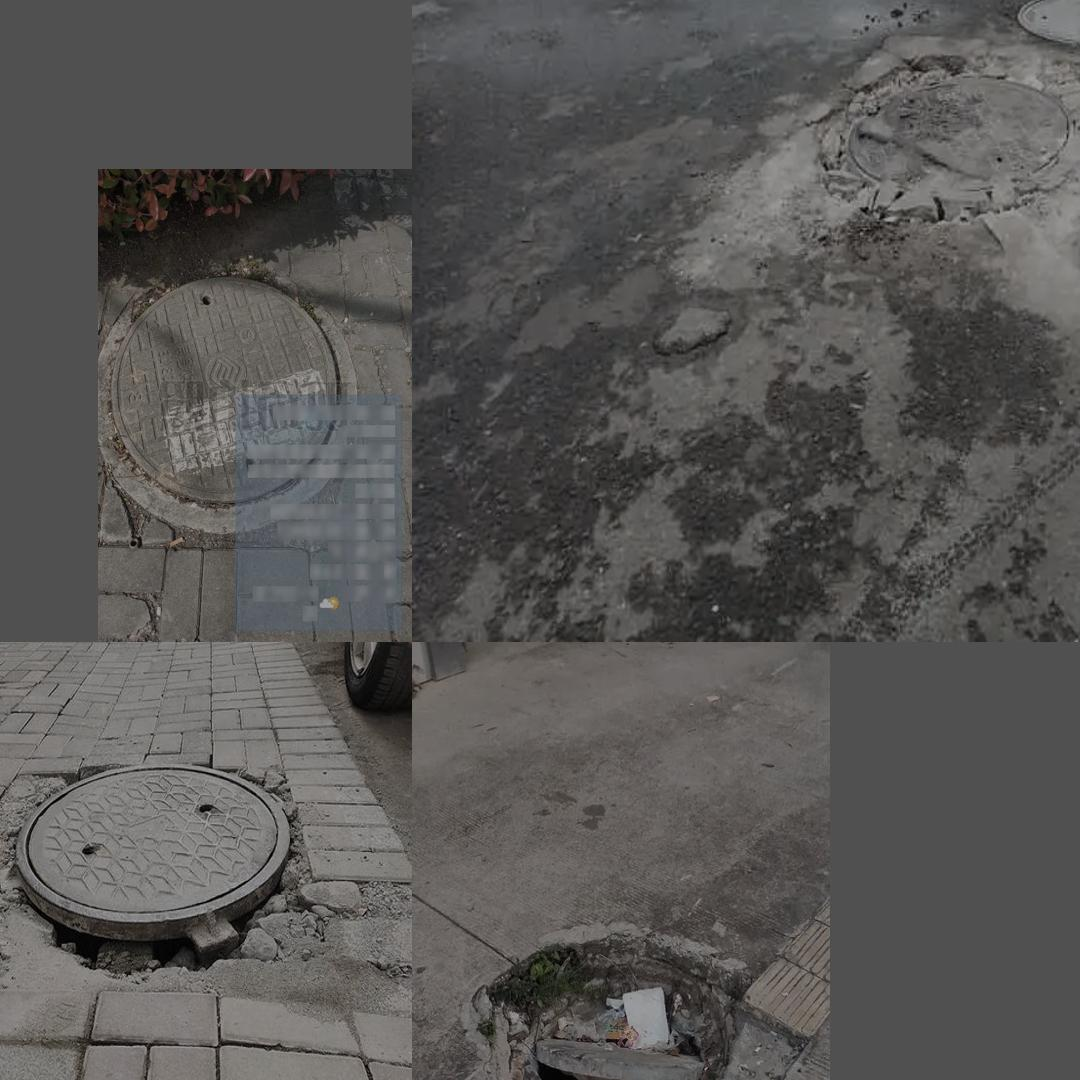circle: (736, 36, 1080, 306), (0, 763, 361, 991), (103, 264, 344, 523), (448, 914, 790, 1080)
